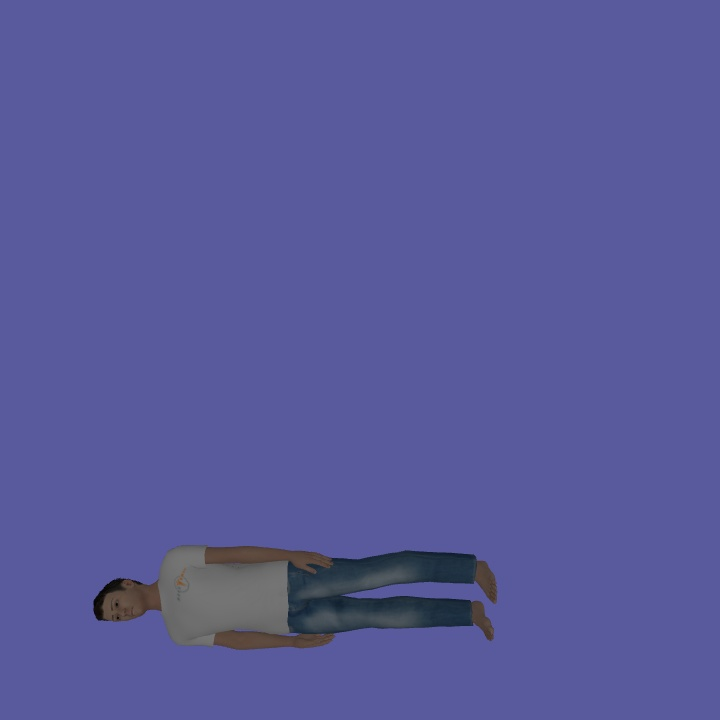victim: (89, 541, 500, 654)
